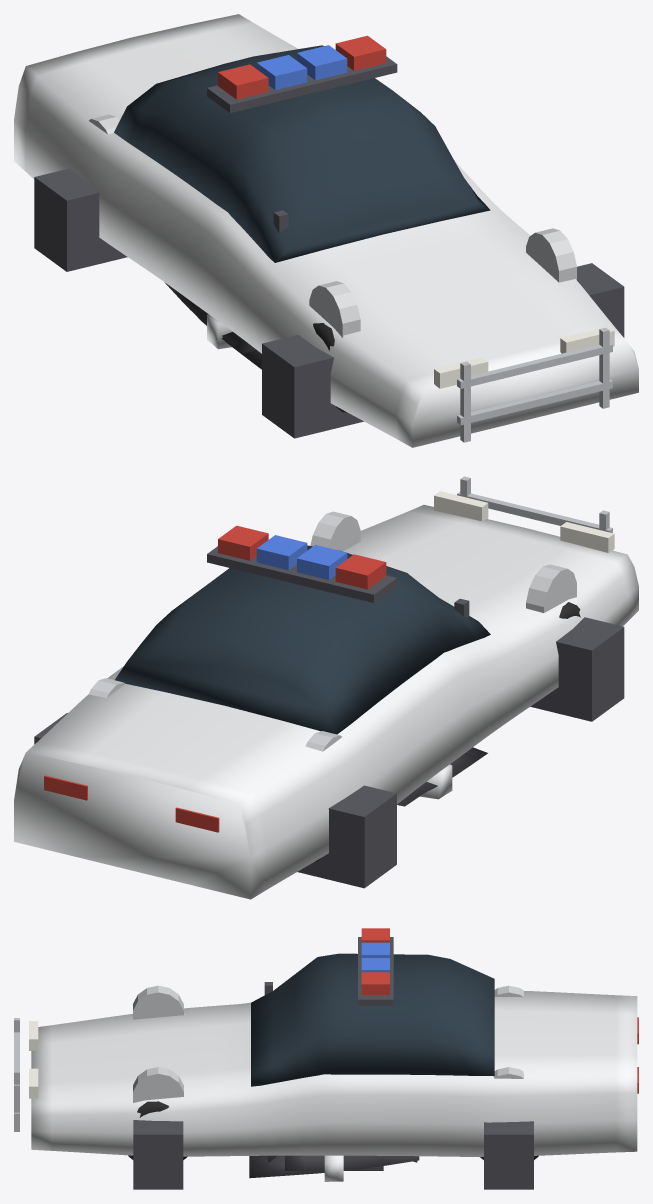
The model's file is police.glb.
3 views of the same model, one above another, from view 1: azimuth 30°, elevation 25°; view 2: azimuth 150°, elevation 25°; view 3: azimuth 270°, elevation 25° (orthographic). The views are drawn at different scales.
Visible parts, largest first — view 1: police_body, police_glass, police_interior, police_pushbar, police_lightbar, police_lightbar_red, police_lightbar_blue, police_rim_fl, police_rim_fr, police_lights_f, police_hood; view 2: police_body, police_glass, police_interior, police_lightbar, police_lightbar_red, police_lightbar_blue, police_lights_f, police_rim_fl, police_pushbar, police_rim_fr, police_lights_r; view 3: police_body, police_glass, police_interior, police_hood, police_rim_fr, police_rim_fl, police_lightbar_red, police_lightbar_blue, police_lightbar, police_trunk, police_pushbar, police_lights_f (+1 smaller).
Boxes of the visible parts, <box> form: police_body: <box>14,14,638,447</box>; police_glass: <box>114,45,490,262</box>; police_interior: <box>34,168,624,438</box>; police_pushbar: <box>457,327,612,442</box>; police_lightbar: <box>207,56,397,113</box>; police_lightbar_red: <box>218,35,386,99</box>; police_lightbar_blue: <box>256,45,347,89</box>; police_rim_fl: <box>309,281,360,337</box>; police_rim_fr: <box>526,228,576,282</box>; police_lights_f: <box>434,326,614,388</box>; police_hood: <box>165,283,261,369</box>; police_body: <box>14,505,638,899</box>; police_glass: <box>115,545,490,734</box>; police_interior: <box>34,617,624,888</box>; police_lightbar: <box>207,546,397,602</box>; police_lightbar_red: <box>218,525,386,589</box>; police_lightbar_blue: <box>256,535,347,579</box>; police_lights_f: <box>434,491,614,552</box>; police_rim_fl: <box>526,564,576,612</box>; police_pushbar: <box>457,476,612,533</box>; police_rim_fr: <box>310,511,360,551</box>; police_lights_r: <box>44,775,219,832</box>; police_body: <box>31,991,637,1156</box>; police_glass: <box>251,953,494,1086</box>; police_interior: <box>133,1120,533,1189</box>; police_hood: <box>249,1155,419,1178</box>; police_rim_fr: <box>133,1067,183,1102</box>; police_rim_fl: <box>133,985,183,1019</box>; police_lightbar_red: <box>361,928,389,995</box>; police_lightbar_blue: <box>361,942,389,972</box>; police_lightbar: <box>358,937,393,1005</box>; police_trunk: <box>285,1155,383,1170</box>; police_pushbar: <box>14,1018,19,1131</box>; police_lights_f: <box>29,1021,38,1098</box>.
Bounding box in the file's own units: 2.47 × 1.79 × 5.26.
